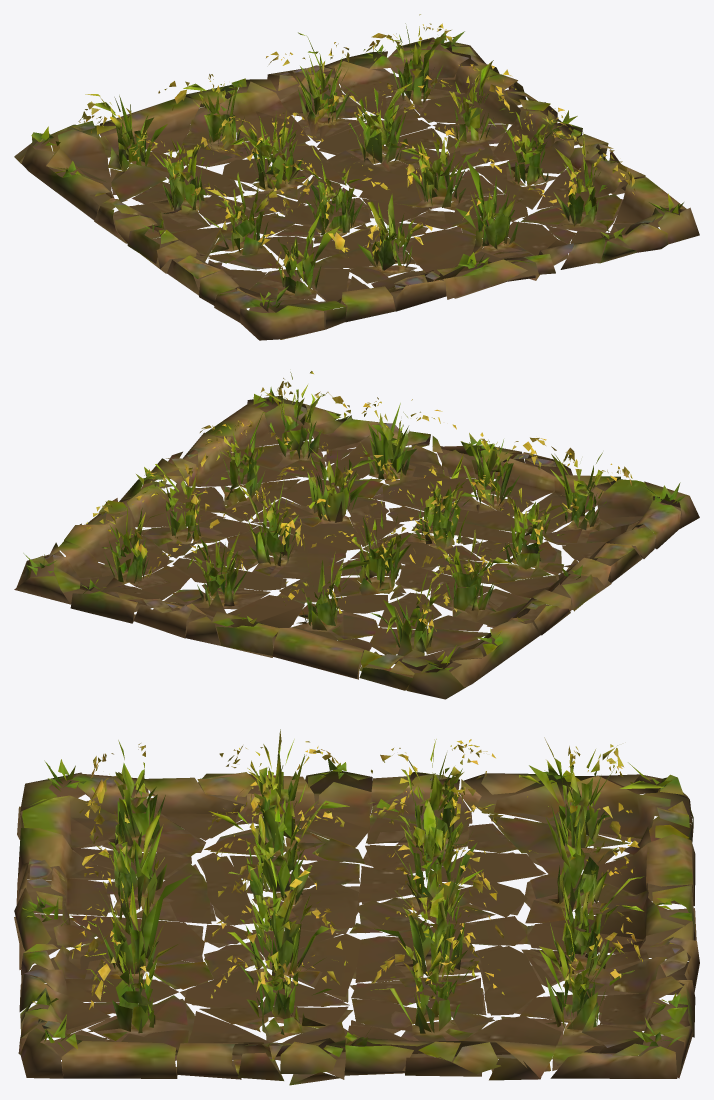
Rendered from rice-paddy.glb.
3 renders of one model, top to bottom at view 1: azimuth 30°, elevation 25°; view 2: azimuth 150°, elevation 25°; view 3: azimuth 270°, elevation 25°, orthographic. The views are drawn at different scales.
Parts seen in each view (by area): view 1: mesh_node; view 2: mesh_node; view 3: mesh_node.
Boxes of the visible parts, x1,y1,x2,y2 form: mesh_node: (14,14,699,340); mesh_node: (14,371,699,699); mesh_node: (14,729,699,1085).
Size of the model in its own units: 4 by 0.7067 by 3.99.
Materials: 1 (1 with a texture image).
